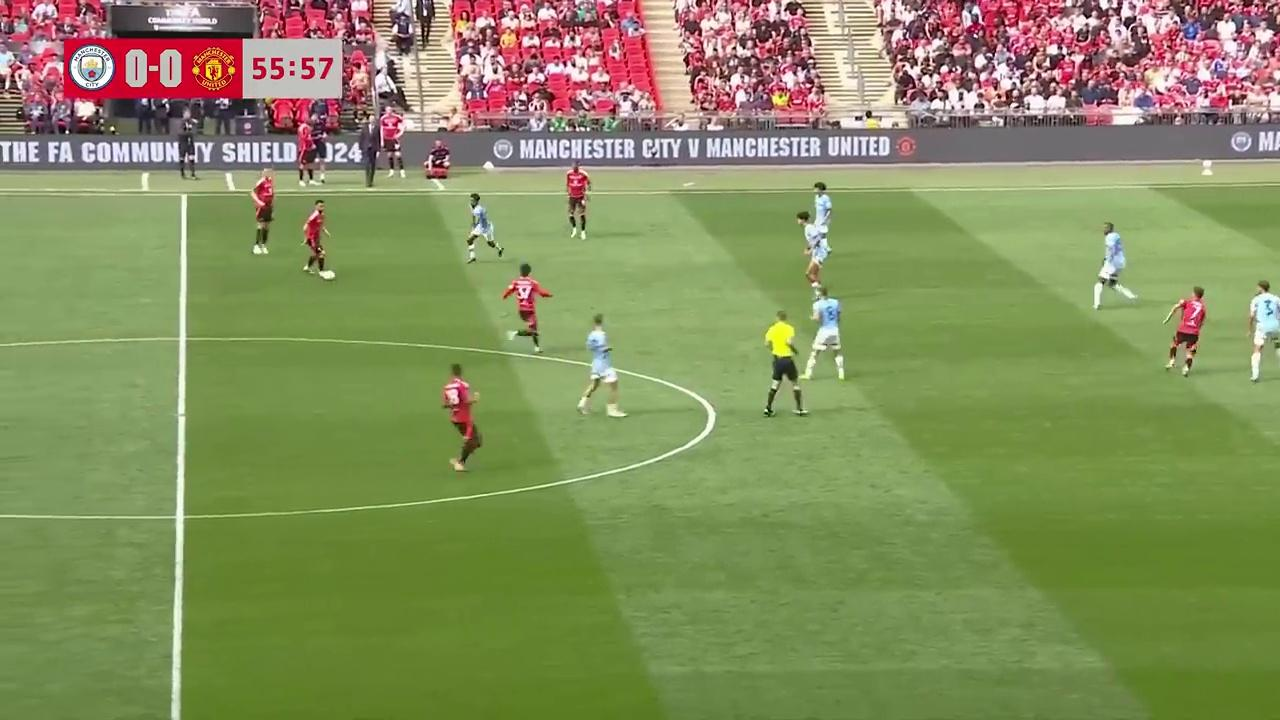ball: (323, 267, 336, 281)
player: (577, 314, 624, 417), (500, 262, 553, 353), (441, 363, 483, 474), (1092, 220, 1138, 310), (1162, 286, 1206, 376), (804, 288, 844, 381), (1246, 281, 1279, 383), (465, 193, 502, 264), (302, 200, 334, 280), (797, 212, 825, 288), (251, 170, 275, 254), (565, 164, 591, 239), (809, 182, 832, 253)
referee: (762, 309, 808, 419)
